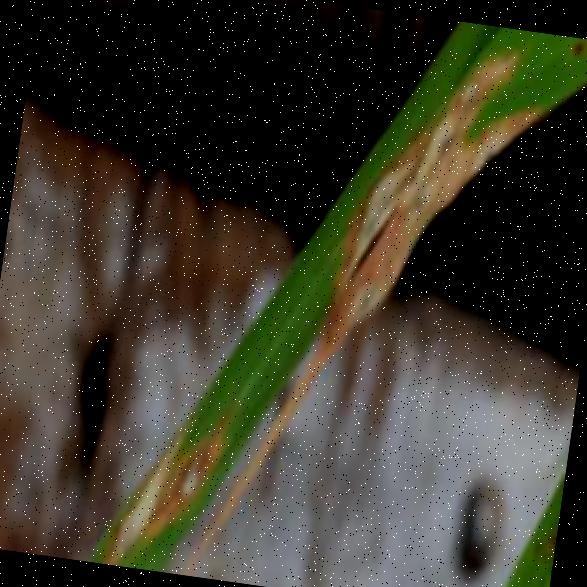Leaf_smut: (299, 27, 554, 358), (151, 417, 231, 514)
